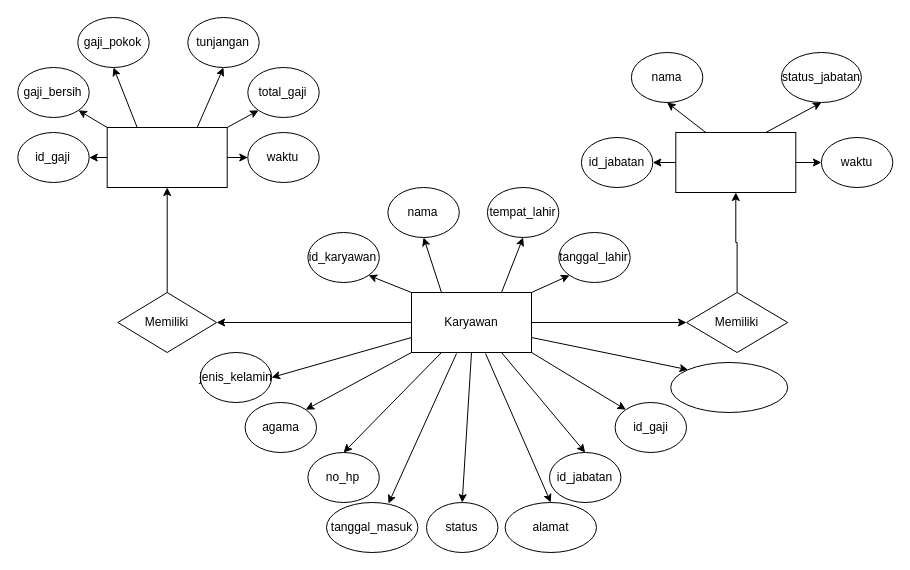
This 910x570 diagram has some shape labels left out. The centre of each missing label's shape, as x and y in pixels:
Gaji: (166,157)
Jabatan: (735,162)
tanggal_update_data: (729,387)
